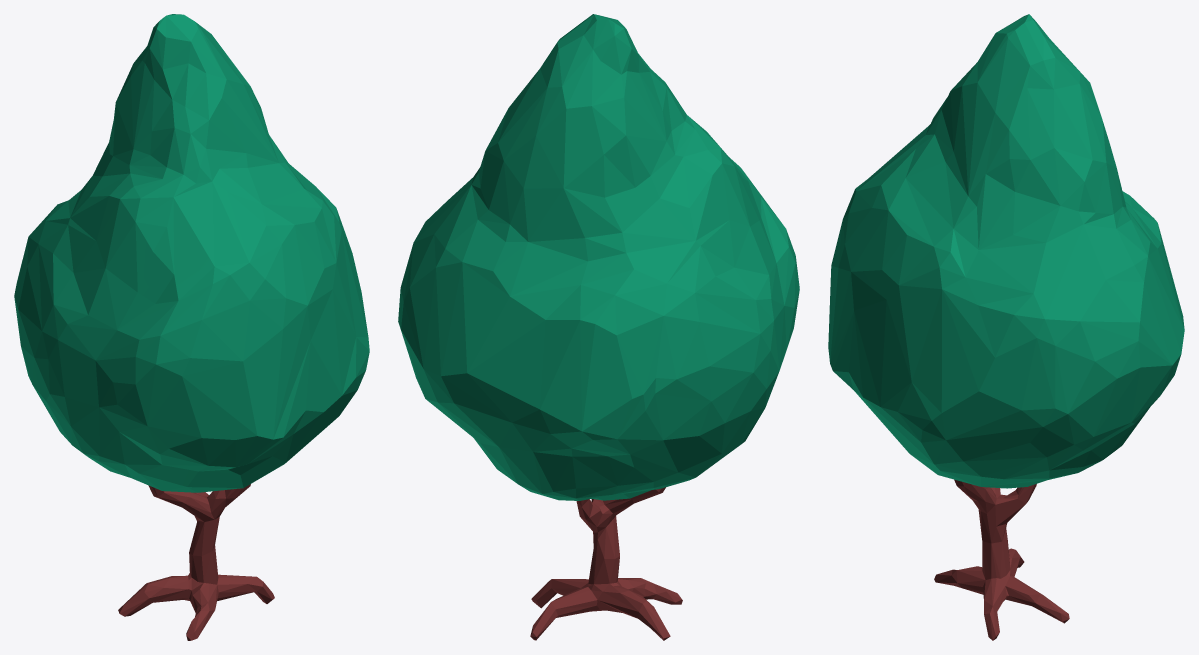
Rendered from Arbre2.fbx.
3 renders of one model, left to right at view 1: azimuth 30°, elevation 25°; view 2: azimuth 150°, elevation 25°; view 3: azimuth 270°, elevation 25°, orthographic. The views are drawn at different scales.
Visible parts, largest first — view 1: TreeTop2High; view 2: TreeTop2High; view 3: TreeTop2High.
Part boxes in pixels (<box>): TreeTop2High: <box>14,14,369,640</box>; TreeTop2High: <box>398,14,799,640</box>; TreeTop2High: <box>828,14,1184,640</box>.
Bounding box in the file's own units: 1219 × 2220 × 1221.
